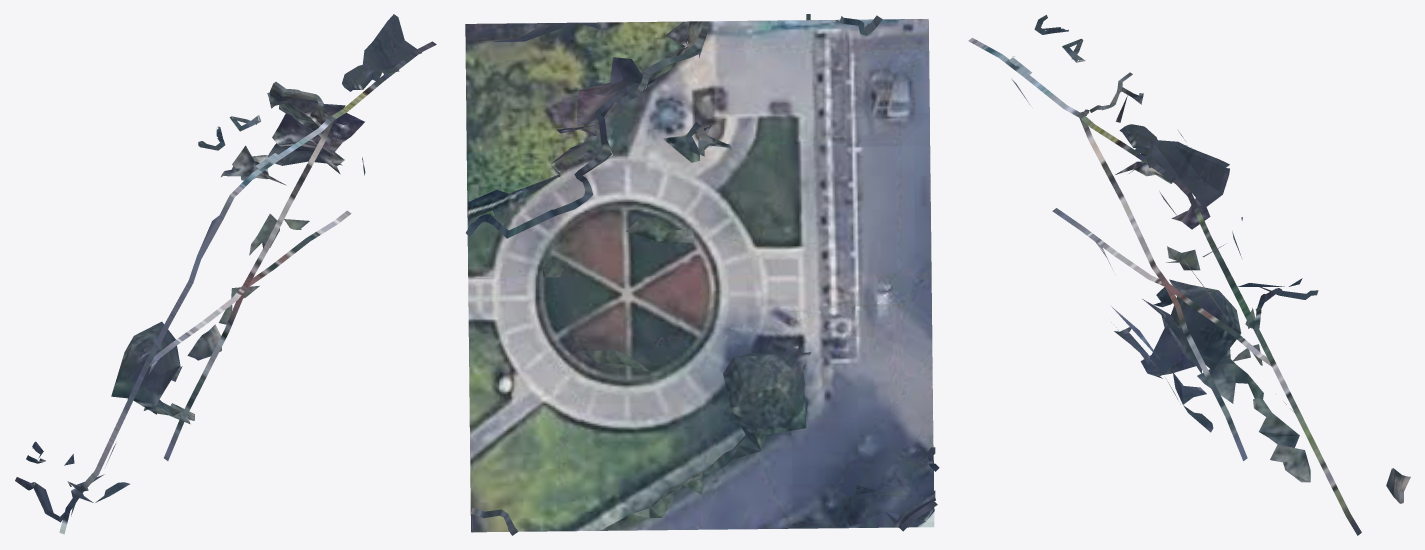
3 views of the same model, side by side, from view 1: azimuth 30°, elevation 25°; view 2: azimuth 150°, elevation 25°; view 3: azimuth 270°, elevation 25° (orthographic). The views are drawn at different scales.
Size of the model in its own units: 40.65 by 37.58 by 36.05.
1 material, 1 textured.
